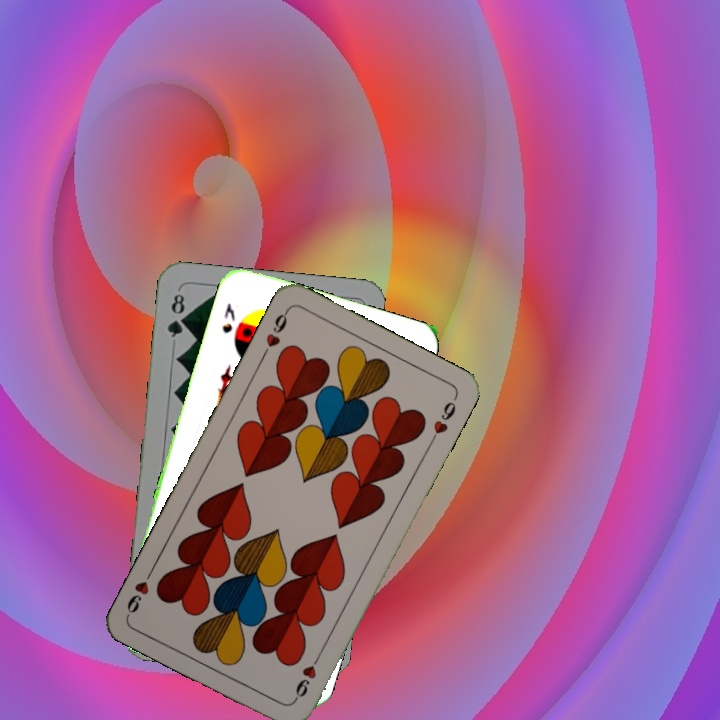G8: (163, 289, 188, 340)
H9: (289, 649, 324, 704), (258, 305, 292, 360)
SK: (218, 299, 238, 336)
